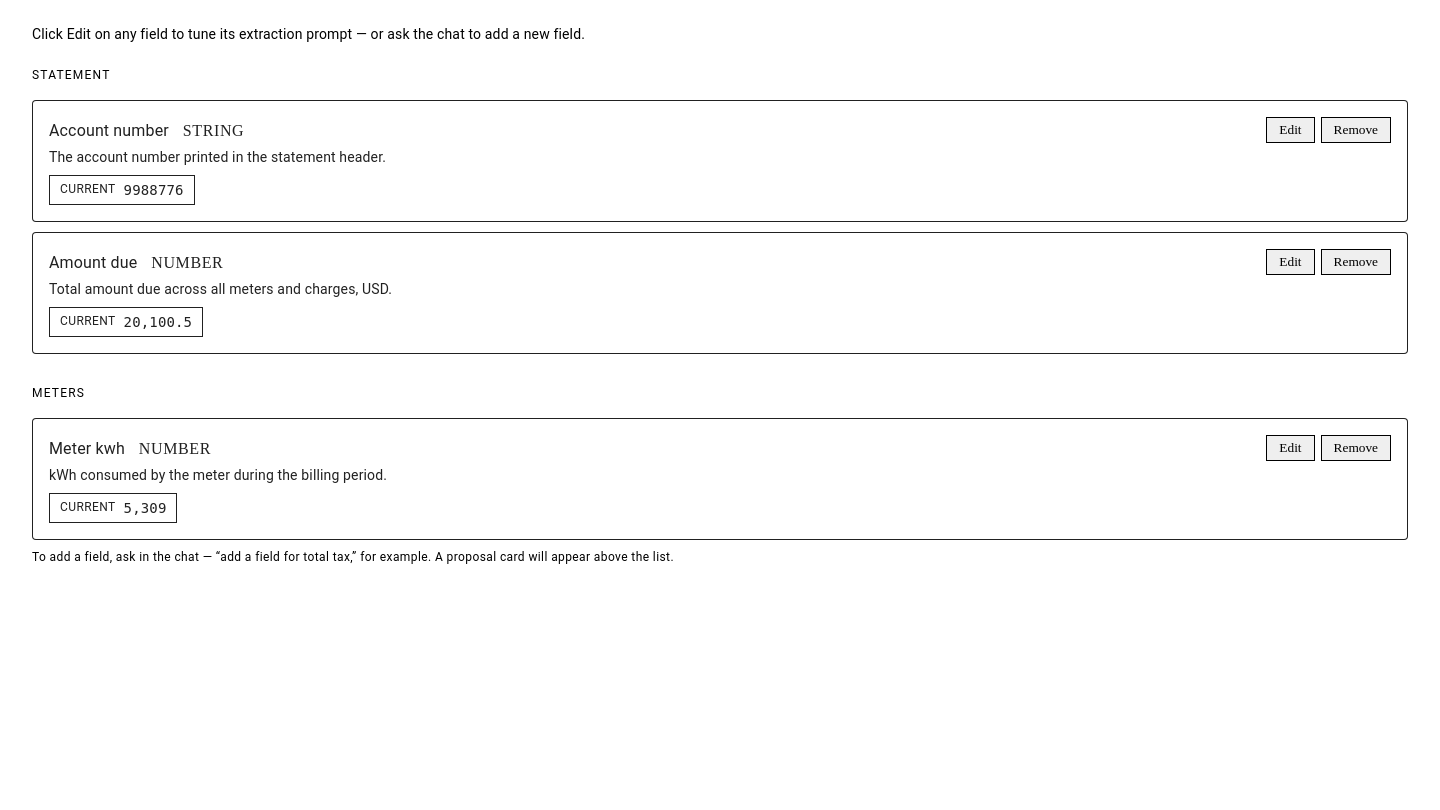
Scenario: SchemaView (UI-01 Phase 1) › clicking Edit on a field opens the inline editor below; other rows stay collapsed
The width and height of the screenshot is (1440, 810).
expect the element with test id "schema-field-account_number" is shown: met, box [32,100,1408,222]
expect the element with test id "schema-field-value-account_number" shows "9988776": met, box [124,182,184,198]
Open the first field's editor.
Click the button with test id "schema-edit-field-account_number" at (1290, 130), box [1266,117,1315,143]
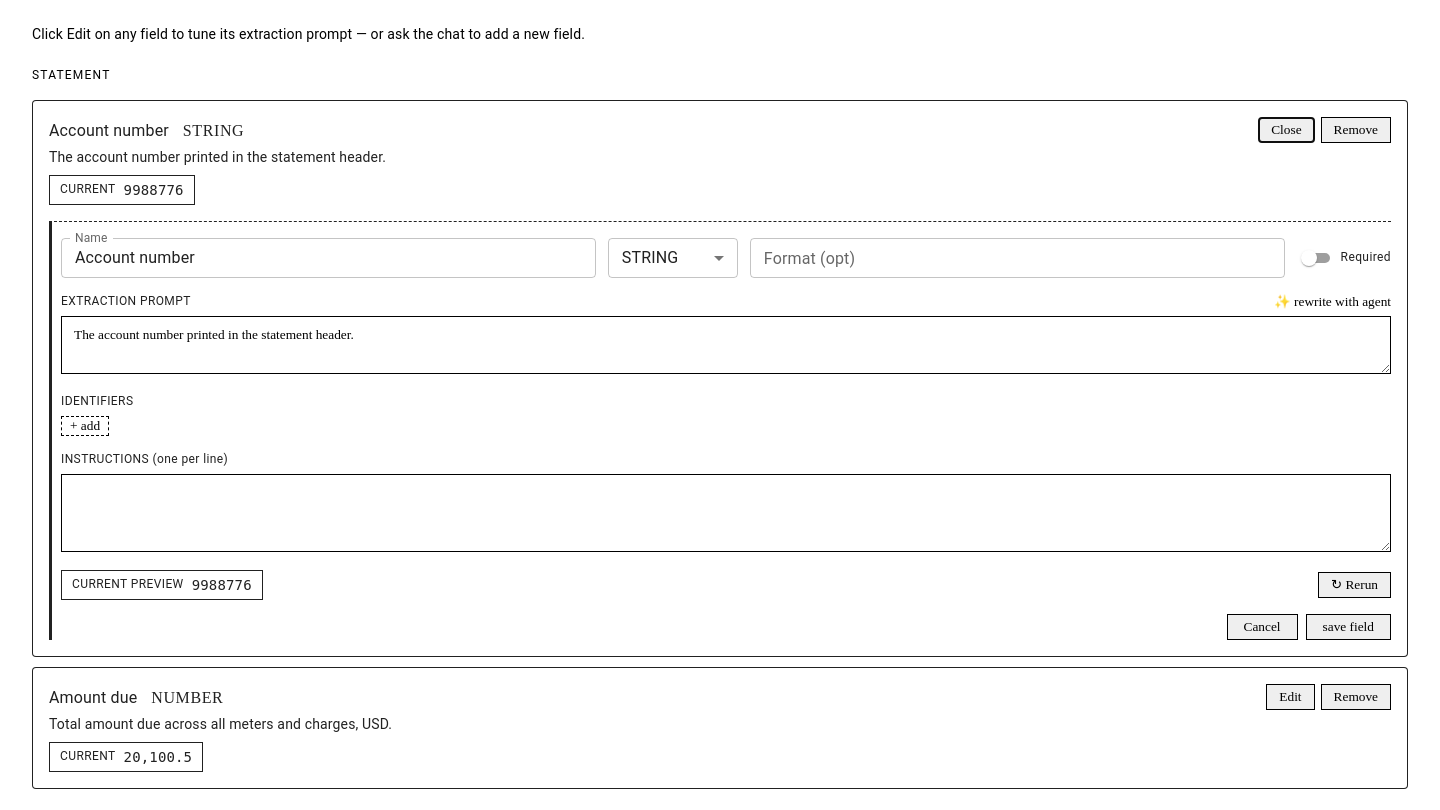
expect the element with test id "schema-field-editor-account_number" is shown: met, box [49,221,1391,640]
Opening a second editor closes the first (single-row-open invariant).
Click the button with test id "schema-edit-field-amount_due" at (1290, 697), box [1266,684,1315,710]
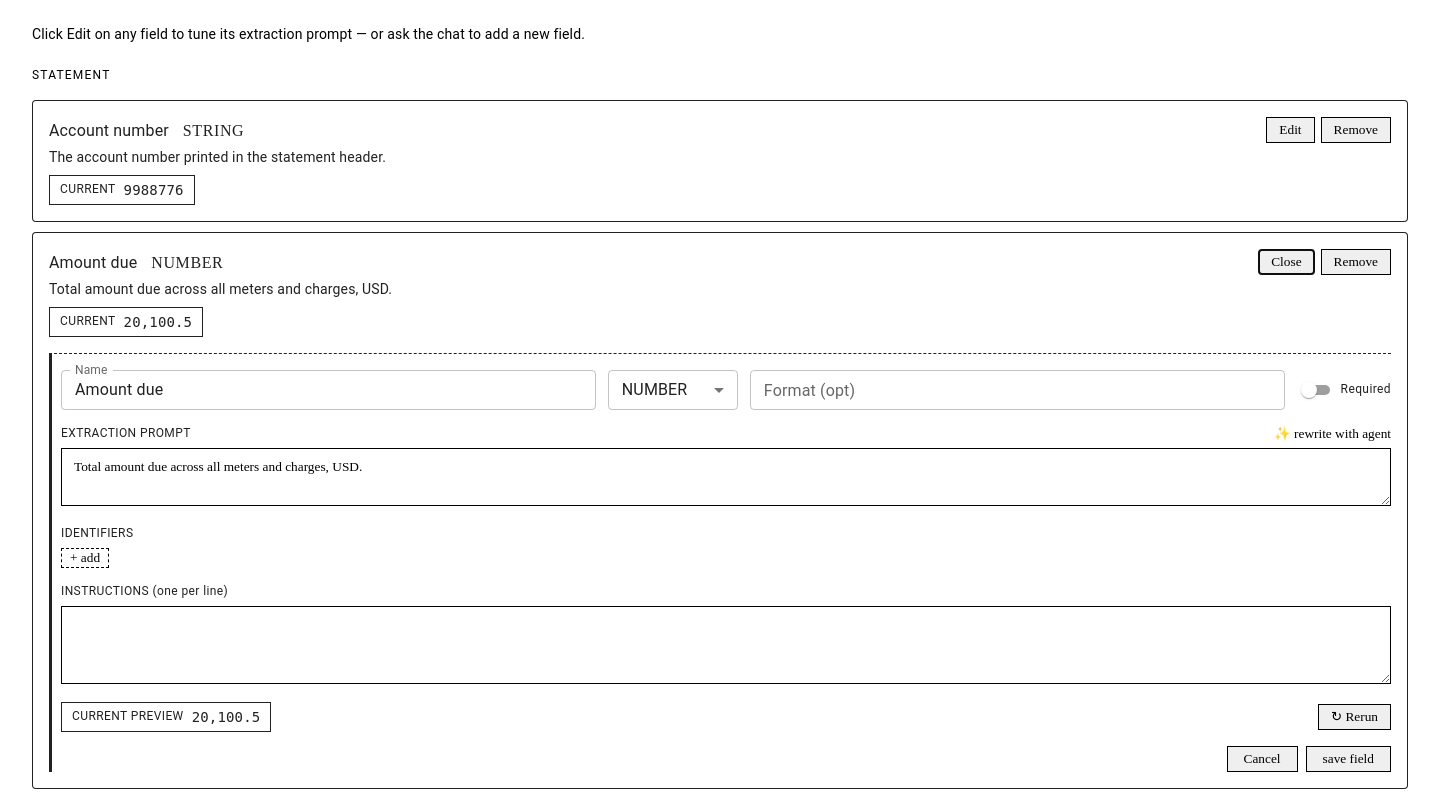
expect the element with test id "schema-field-editor-amount_due" is shown: met, box [49,353,1391,772]
expect the element with test id "schema-field-editor-account_number" is gone: met
